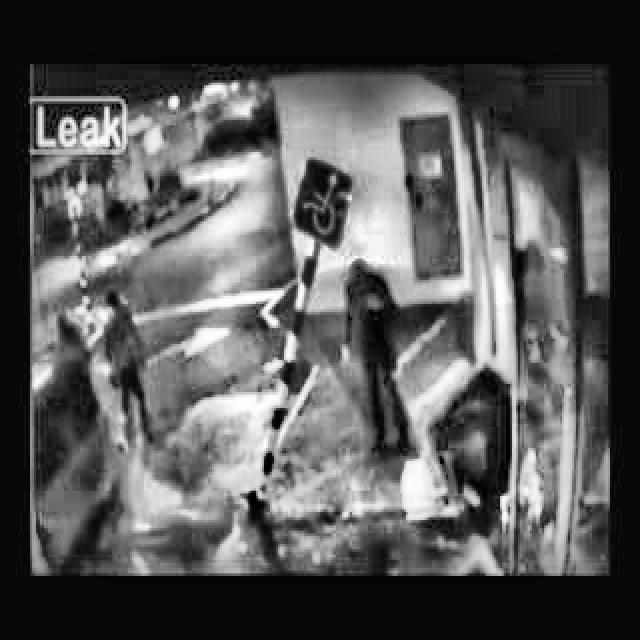burglary: (30, 256, 610, 576)
